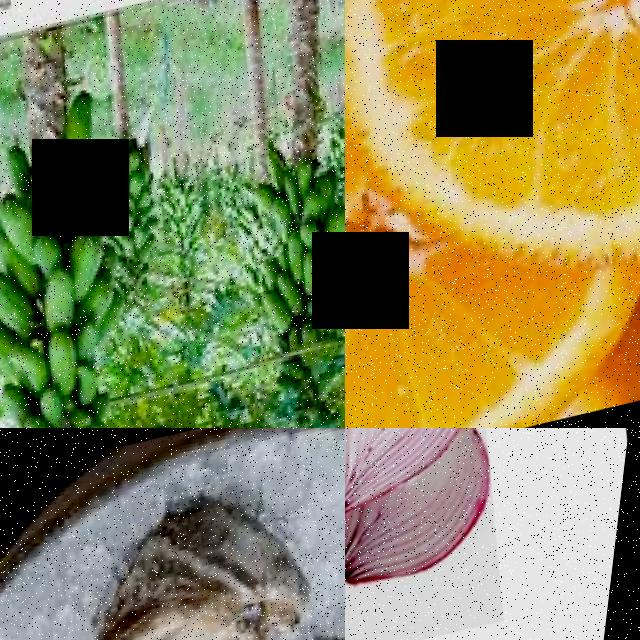onion: (345, 462, 521, 604), (345, 428, 490, 505)
orange: (345, 0, 640, 311), (345, 0, 434, 428)
oysters: (0, 503, 330, 640)
pawpaw: (57, 87, 114, 171), (68, 227, 120, 299), (0, 189, 51, 259), (44, 266, 93, 336), (0, 266, 49, 335), (57, 171, 113, 230), (51, 328, 97, 399), (265, 293, 307, 340), (322, 207, 345, 261)
